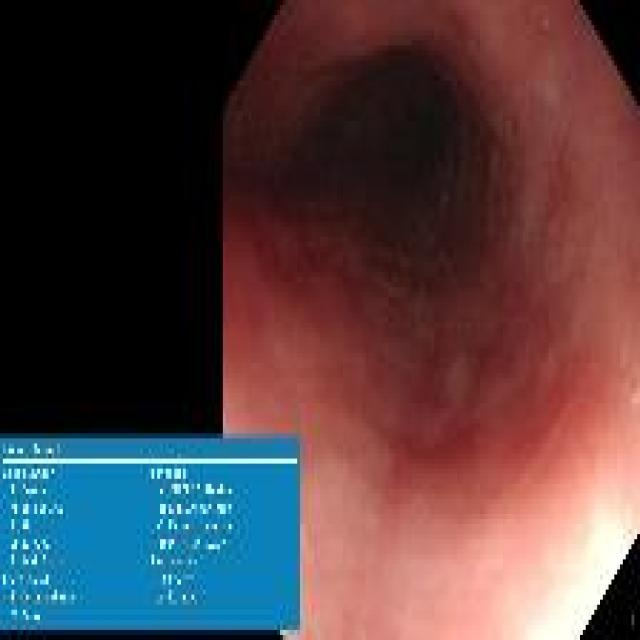bubbles: (409, 275, 431, 312), (629, 384, 638, 407), (542, 15, 553, 31)
color misalignment: (1, 436, 299, 632)
contrast: (267, 43, 495, 250)
saturation: (520, 495, 628, 635)
